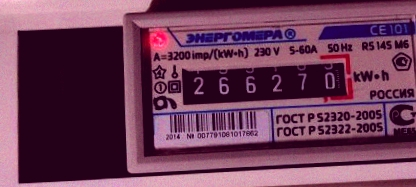0: (322, 69, 335, 91)
2: (190, 74, 205, 95), (269, 71, 282, 93)
6: (216, 75, 230, 95), (242, 74, 256, 93)
7: (294, 70, 308, 92)
screen: (171, 49, 360, 114)
